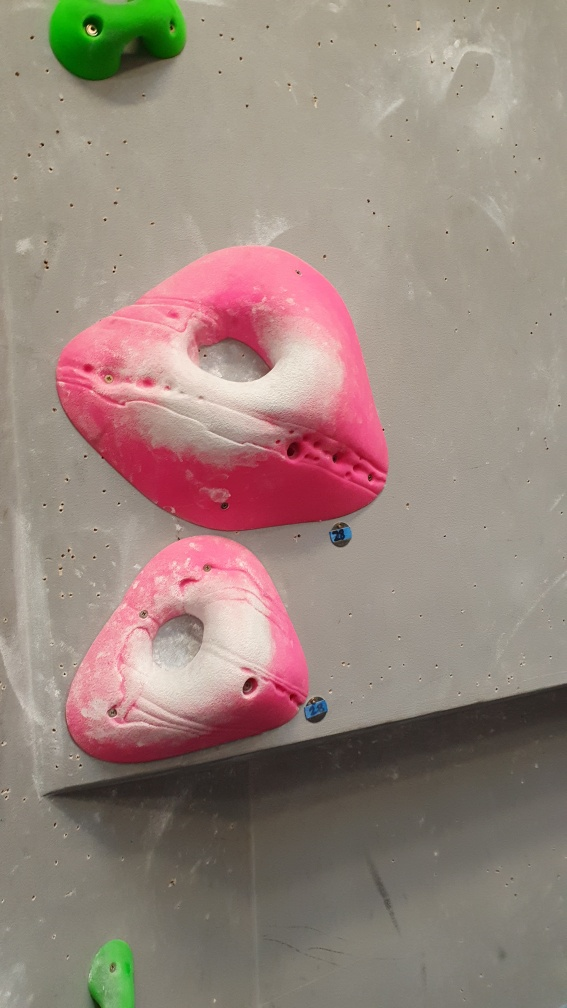Hand Start: (322, 519, 359, 552), (300, 691, 333, 728)
Pocket: (53, 242, 393, 534), (61, 532, 313, 769)
